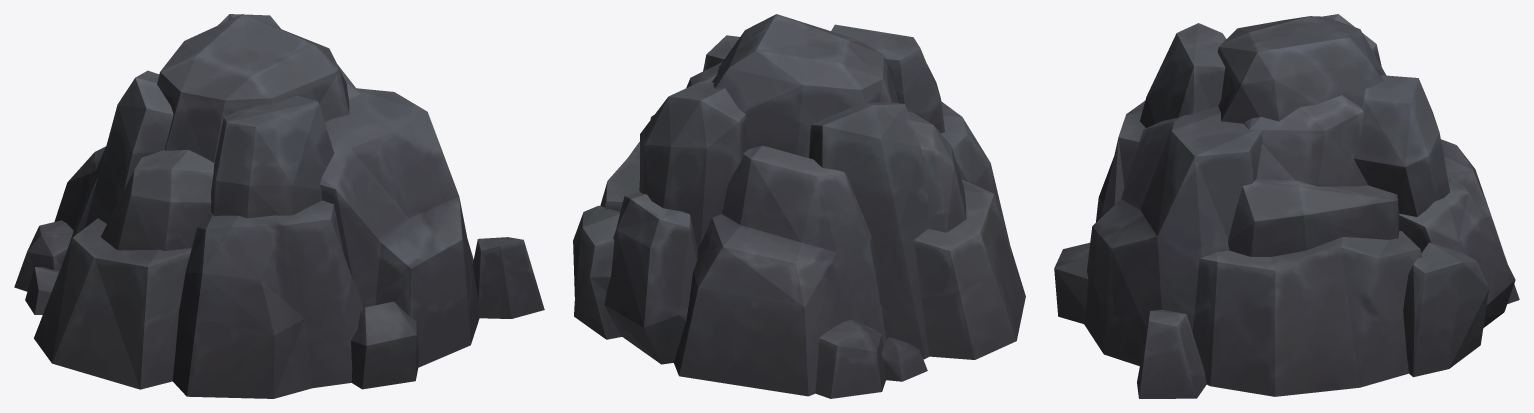
Rendered from LimestoneMine.FBX.
3 views of the same model, side by side, from view 1: azimuth 30°, elevation 25°; view 2: azimuth 150°, elevation 25°; view 3: azimuth 270°, elevation 25° (orthographic).
Parts seen in each view (by area): view 1: limestone; view 2: limestone; view 3: limestone.
Part boxes in pixels (left/top/right/bottom): limestone: left=14, top=14, right=544, bottom=398; limestone: left=573, top=14, right=1025, bottom=398; limestone: left=1054, top=14, right=1519, bottom=398.
Size of the model in its own units: 1.66 by 0.9957 by 1.58.
Materials: 1 (1 with a texture image).
